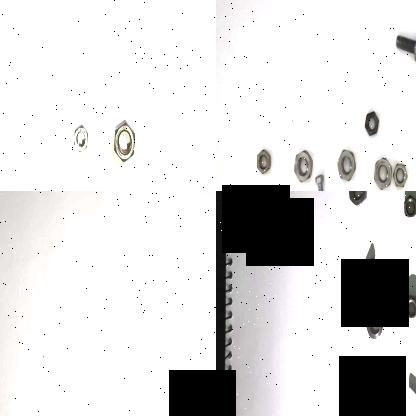Bolts: (356, 249, 378, 304), (394, 26, 416, 63), (401, 367, 416, 416), (313, 168, 327, 191)
NUTS: (112, 115, 134, 163), (362, 302, 386, 344), (69, 116, 92, 156), (335, 147, 357, 183), (292, 148, 314, 183), (371, 154, 391, 191), (390, 160, 408, 190), (400, 191, 416, 224), (344, 191, 370, 211), (362, 110, 380, 138), (400, 291, 416, 321), (255, 145, 271, 174)
